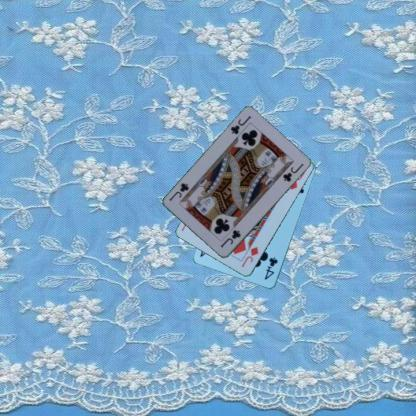4c: (262, 254, 280, 282)
Jc: (226, 113, 252, 136), (218, 227, 242, 249)
Jd: (240, 244, 260, 268)
